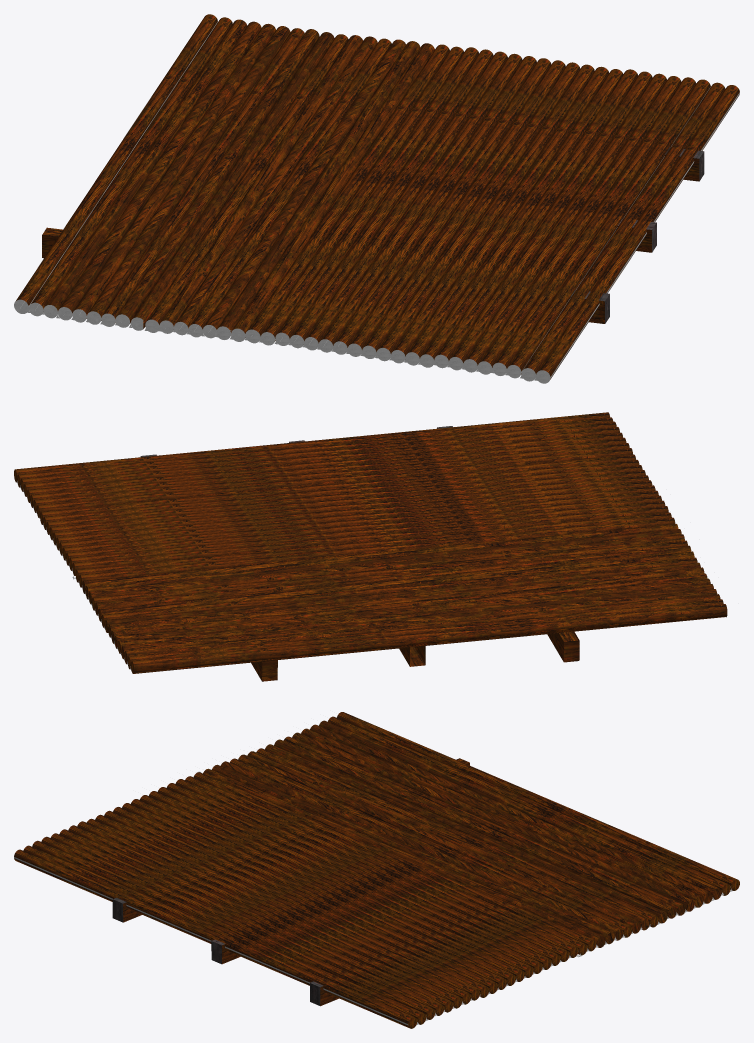
Rendered from strop_svetnice.gltf.
The picture shows the model from 3 angles, top to bottom: view 1: azimuth 30°, elevation 25°; view 2: azimuth 150°, elevation 25°; view 3: azimuth 270°, elevation 25°; orthographic projection. The views are drawn at different scales.
Parts seen in each view (by area): view 1: root; view 2: root; view 3: root.
Part boxes in pixels (x1,y1,x2,y2): root: (14,14,739,383); root: (14,412,727,681); root: (14,712,739,1028).
Size of the model in its own units: 9.82 by 0.4845 by 9.73.
Materials: 4 (4 with a texture image).
